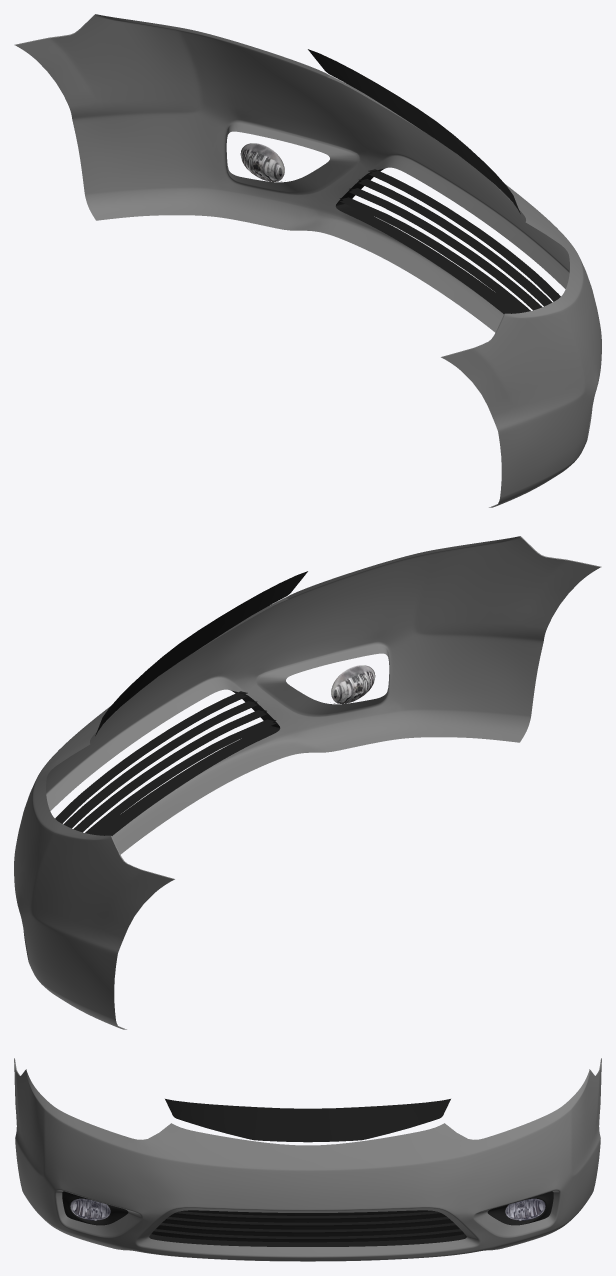
3 views of the same model, one above another, from view 1: azimuth 30°, elevation 25°; view 2: azimuth 150°, elevation 25°; view 3: azimuth 270°, elevation 25° (orthographic). The views are drawn at different scales.
Visible parts, largest first — view 1: H031_021G_C_H031_021G_C_4_DaS, H031_021G_C_H031_021G_C_2_D, H031_021G_C_5_D_H031_021G_C, H031_021G_C_H031_021G_C_1_N; view 2: H031_021G_C_H031_021G_C_4_DaS, H031_021G_C_H031_021G_C_2_D, H031_021G_C_5_D_H031_021G_C, H031_021G_C_H031_021G_C_3_N; view 3: H031_021G_C_H031_021G_C_4_DaS, H031_021G_C_5_D_H031_021G_C, H031_021G_C_H031_021G_C_2_D, H031_021G_C_H031_021G_C_1_N, H031_021G_C_H031_021G_C_3_N, H031_021G_C_H031_021G_C_6_DTaSI, H031_021G_C_H031_021G_C_7_DTaSI.
Part boxes in pixels (x1=…): H031_021G_C_H031_021G_C_4_DaS: x1=15, y1=14, x2=601, y2=507; H031_021G_C_H031_021G_C_2_D: x1=275, y1=169, x2=560, y2=312; H031_021G_C_5_D_H031_021G_C: x1=308, y1=49, x2=520, y2=313; H031_021G_C_H031_021G_C_1_N: x1=240, y1=143, x2=284, y2=181; H031_021G_C_H031_021G_C_4_DaS: x1=14, y1=536, x2=600, y2=1029; H031_021G_C_H031_021G_C_2_D: x1=55, y1=691, x2=340, y2=834; H031_021G_C_5_D_H031_021G_C: x1=95, y1=571, x2=307, y2=835; H031_021G_C_H031_021G_C_3_N: x1=331, y1=665, x2=375, y2=703; H031_021G_C_H031_021G_C_4_DaS: x1=14, y1=1060, x2=601, y2=1261; H031_021G_C_5_D_H031_021G_C: x1=149, y1=1099, x2=466, y2=1246; H031_021G_C_H031_021G_C_2_D: x1=62, y1=1191, x2=553, y2=1240; H031_021G_C_H031_021G_C_1_N: x1=505, y1=1198, x2=545, y2=1220; H031_021G_C_H031_021G_C_3_N: x1=70, y1=1198, x2=110, y2=1220; H031_021G_C_H031_021G_C_6_DTaSI: x1=505, y1=1199, x2=545, y2=1220; H031_021G_C_H031_021G_C_7_DTaSI: x1=70, y1=1199, x2=110, y2=1220.
Size of the model in its own units: 79.82 by 57.66 by 213.
